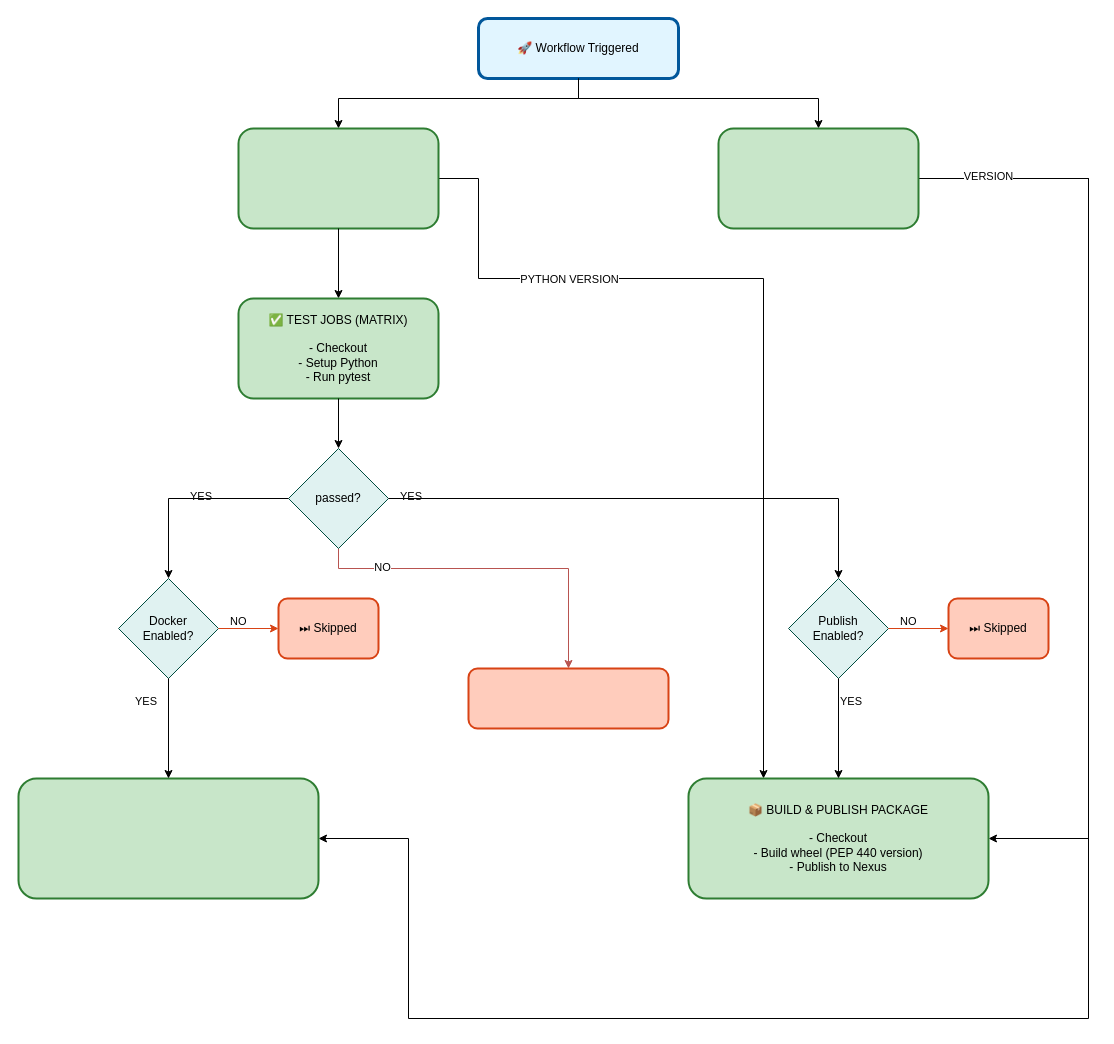
Image size: 1114x1044. Some labels were removed from this diagram. Each missing label, with the centre of its shape:
⏭ Skipped (tests failed): pixel 568 698
🏷️ COMPUTE VERSION Outputs: - pep440-version - docker-version: pixel 818 178
🐳 DOCKER - Checkout - Build image (PEP 440 version) - Push to registry: pixel 168 838
📦 Extract Python Versions Outputs: - python-versions - min-version - max-version: pixel 338 178
